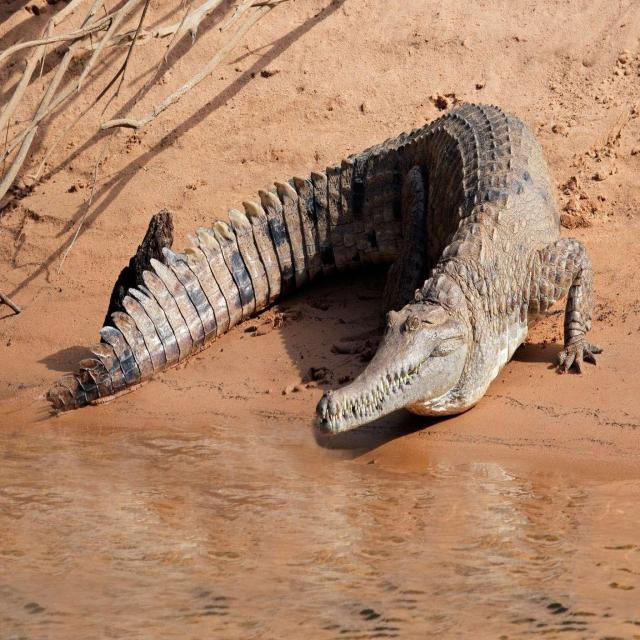crocodile: (28, 66, 624, 466)
